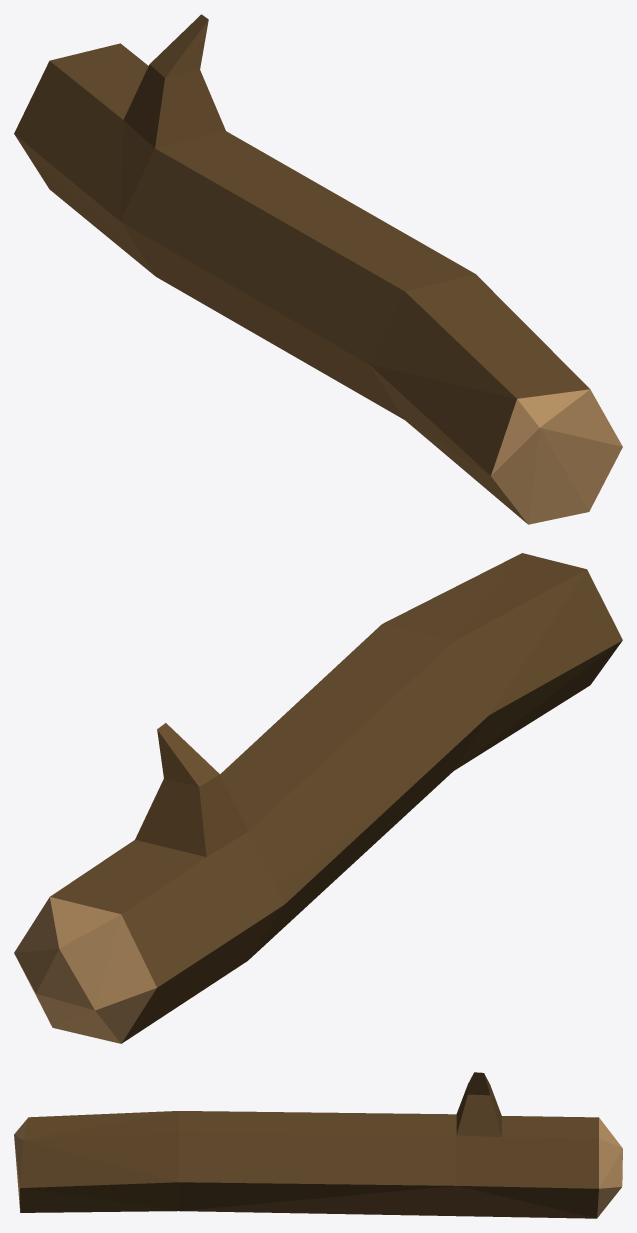
Rendered from Branch_02.fbx.
3 views of the same model, one above another, from view 1: azimuth 30°, elevation 25°; view 2: azimuth 150°, elevation 25°; view 3: azimuth 270°, elevation 25° (orthographic). The views are drawn at different scales.
Visible parts, largest first — view 1: Branch_02; view 2: Branch_02; view 3: Branch_02.
Part boxes in pixels (x1=…): Branch_02: x1=14, y1=14, x2=622, y2=524; Branch_02: x1=14, y1=553, x2=622, y2=1043; Branch_02: x1=14, y1=1072, x2=622, y2=1218.
Size of the model in its own units: 20.65 by 27.83 by 108.
